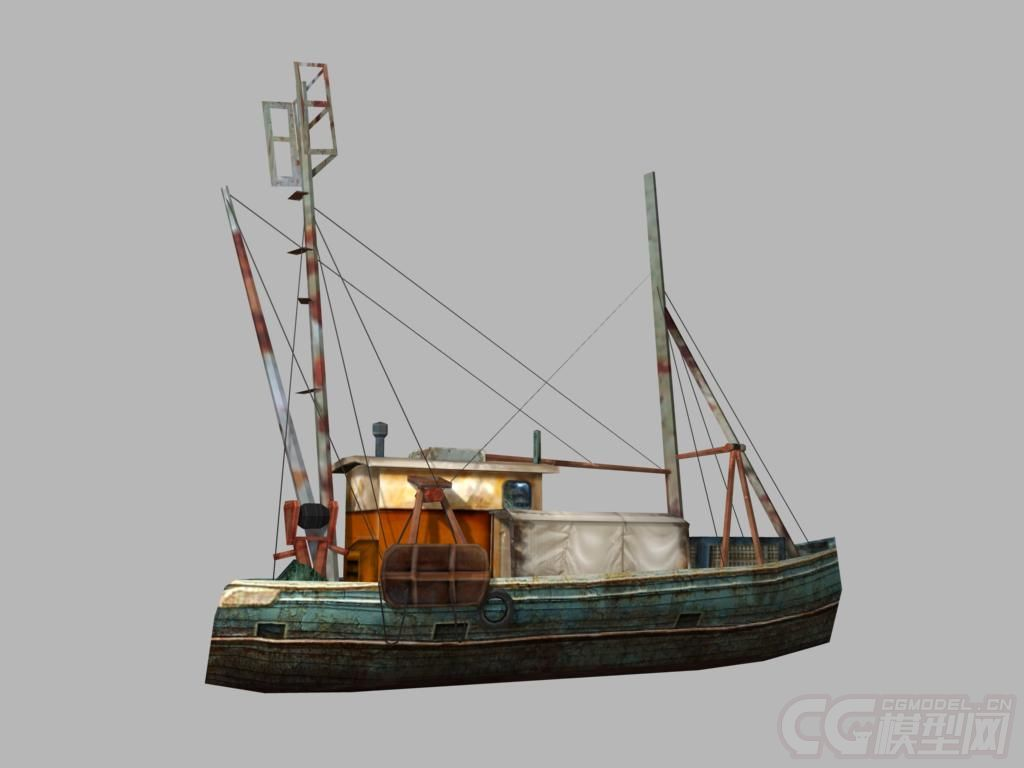otherboat: (189, 285, 845, 689)
